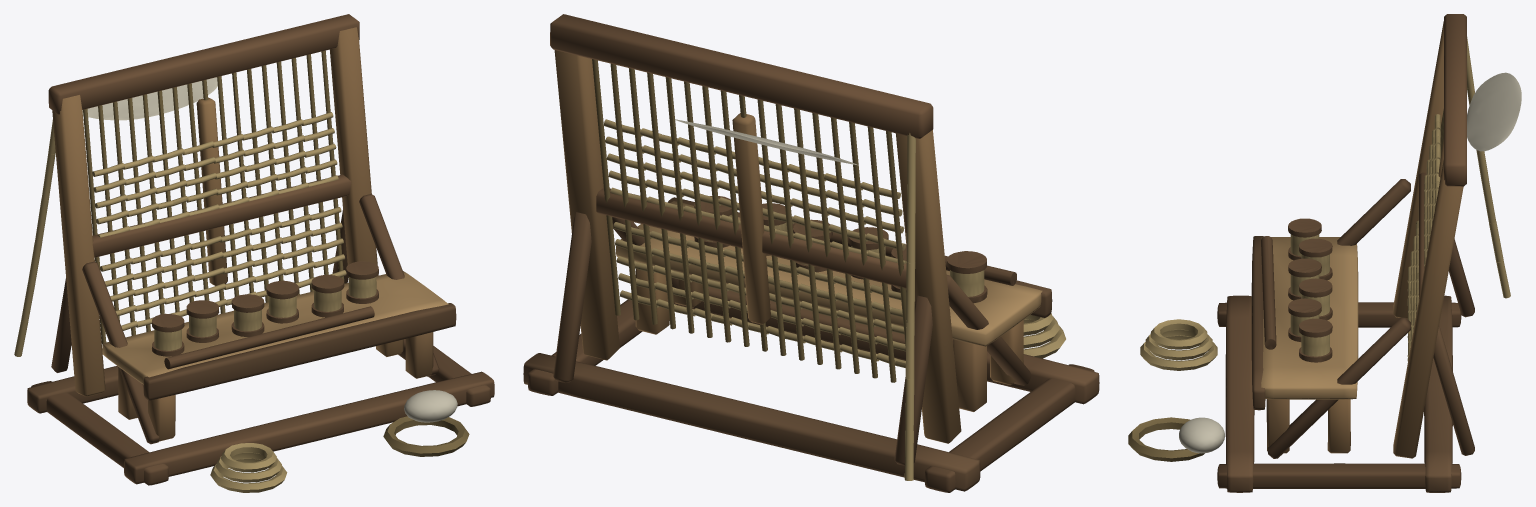
Rendered from loom_frame_a.glb.
3 views of the same model, side by side, from view 1: azimuth 30°, elevation 25°; view 2: azimuth 150°, elevation 25°; view 3: azimuth 270°, elevation 25° (orthographic). The views are drawn at different scales.
Visible parts, largest first — view 1: Surface; view 2: Surface; view 3: Surface.
Boxes of the visible parts, left/top/right/bottom form: Surface: left=14, top=14, right=494, bottom=492; Surface: left=523, top=14, right=1099, bottom=492; Surface: left=1128, top=14, right=1521, bottom=492.
Size of the model in its own units: 5.6 by 4.57 by 5.16.
